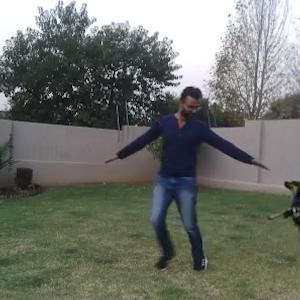land: (111, 94, 260, 259)
